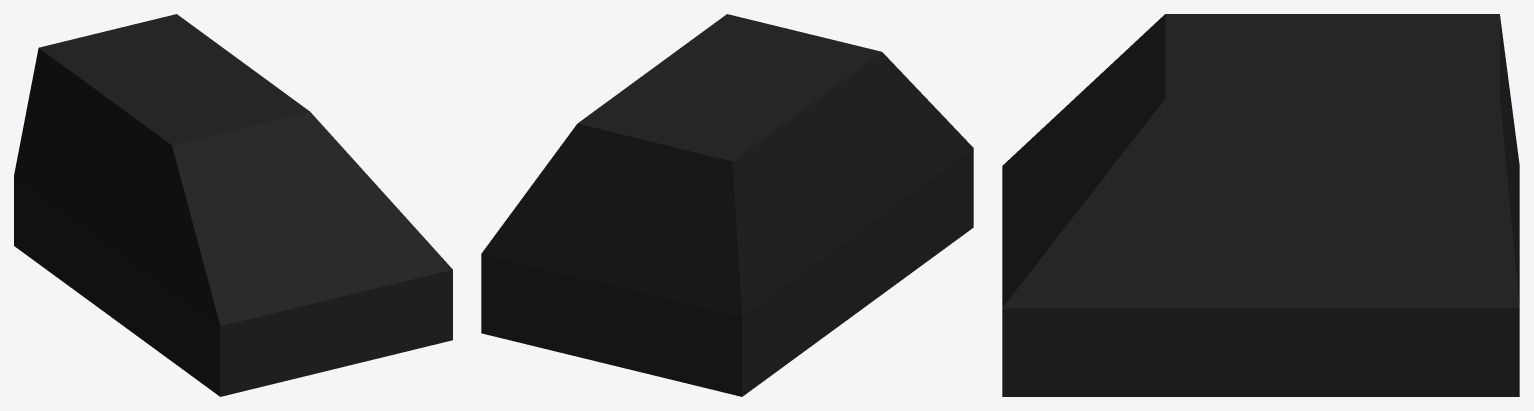
Rendered from zombiefootl.obj.
3 views of the same model, side by side, from view 1: azimuth 30°, elevation 25°; view 2: azimuth 150°, elevation 25°; view 3: azimuth 270°, elevation 25° (orthographic). The views are drawn at different scales.
Visible parts, largest first — view 1: cube3; view 2: cube3; view 3: cube3.
Part boxes in pixels (left/top/right/bottom): cube3: left=14, top=14, right=452, bottom=396; cube3: left=481, top=14, right=973, bottom=396; cube3: left=1002, top=14, right=1519, bottom=396.
Size of the model in its own units: 12.23 by 10.06 by 18.8.
1 material, 1 textured.
